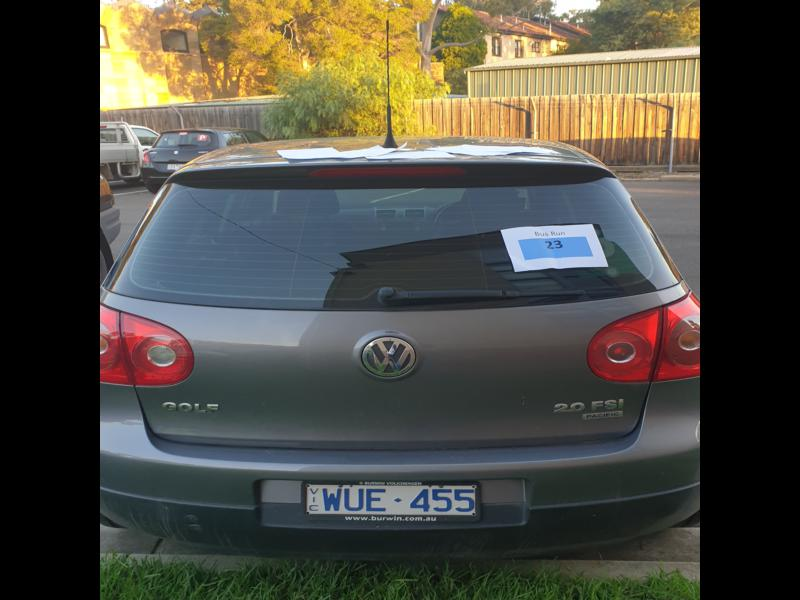BusRun: (517, 236, 595, 259)
PlateNo: (303, 481, 479, 521)
